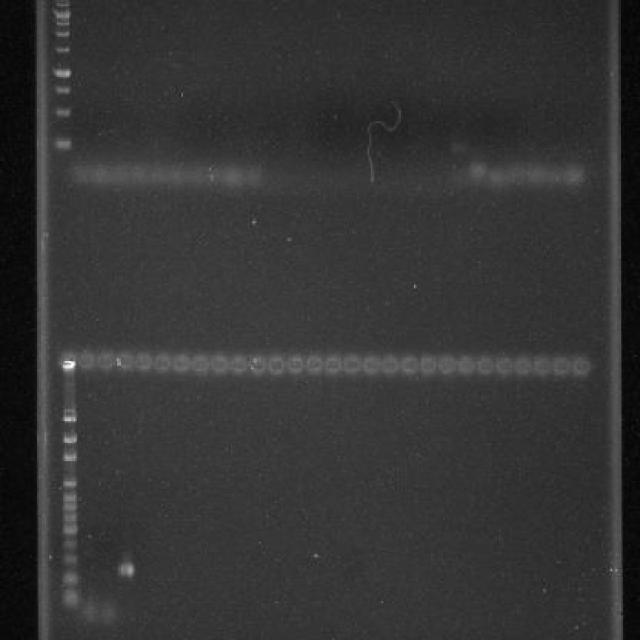B: (116, 560, 136, 578)
L: (55, 338, 597, 390)
M: (57, 382, 81, 622), (51, 0, 74, 152)
P: (60, 589, 80, 611), (60, 568, 78, 587), (53, 136, 72, 150), (53, 84, 72, 96), (62, 552, 78, 566), (63, 522, 79, 536), (53, 9, 72, 20), (62, 538, 78, 551), (62, 449, 78, 462), (54, 107, 71, 118), (62, 512, 78, 523), (62, 433, 78, 444), (62, 492, 78, 503), (54, 68, 71, 78), (62, 478, 78, 488), (63, 502, 79, 512), (53, 46, 70, 54), (63, 408, 77, 416), (63, 415, 77, 423), (53, 32, 70, 38), (54, 21, 71, 27), (54, 2, 70, 8)
Pc: (474, 354, 494, 378), (532, 353, 551, 378), (172, 350, 190, 376), (551, 354, 571, 377), (154, 350, 171, 376), (58, 350, 78, 372), (571, 356, 591, 378), (513, 356, 533, 378), (494, 356, 514, 378), (436, 354, 456, 376), (210, 352, 228, 376), (96, 350, 115, 372), (116, 352, 135, 374), (323, 354, 342, 376), (248, 354, 267, 376), (228, 353, 247, 375), (342, 354, 360, 377), (380, 354, 400, 374), (268, 352, 284, 377), (456, 354, 474, 376), (418, 354, 436, 376), (362, 353, 380, 375), (304, 353, 322, 375), (192, 352, 208, 376), (78, 349, 95, 371), (136, 352, 153, 374), (400, 356, 418, 376), (288, 353, 304, 375)
